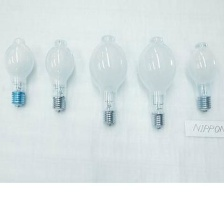light_bulb: (85, 32, 131, 128), (135, 35, 178, 132), (185, 39, 223, 116), (42, 37, 78, 115), (2, 36, 37, 107)
